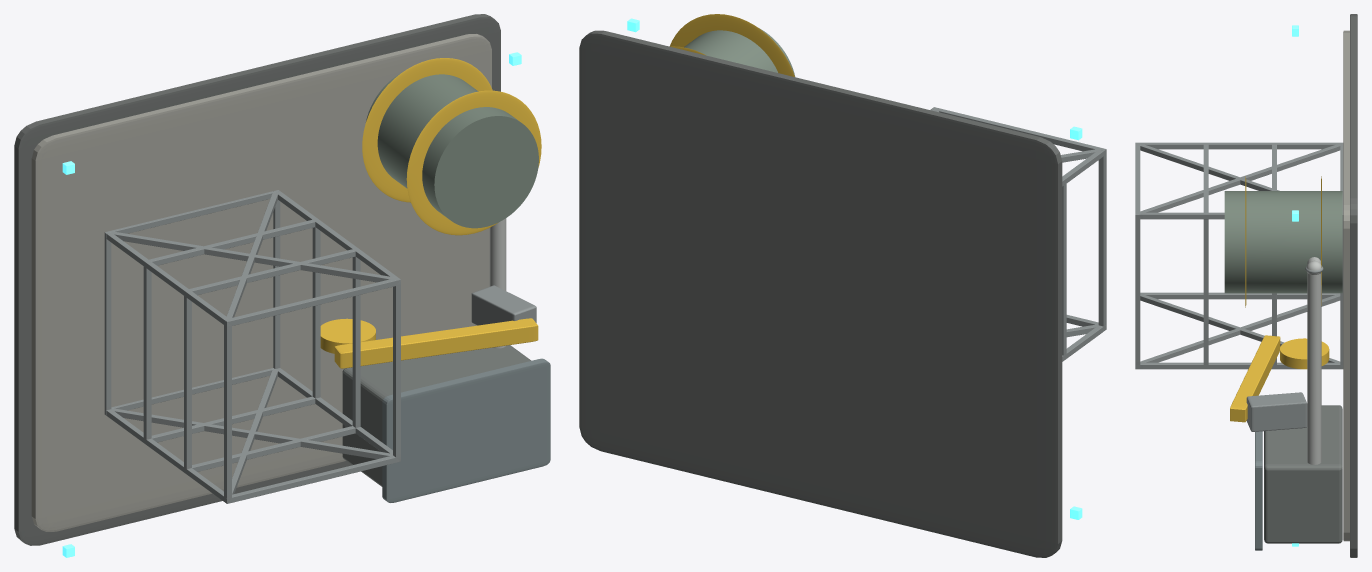
Rendered from b-11-oil-pump-lod1.glb.
The picture shows the model from 3 angles, left to right: view 1: azimuth 30°, elevation 25°; view 2: azimuth 150°, elevation 25°; view 3: azimuth 270°, elevation 25°; orthographic projection. The views are drawn at different scales.
Visible parts, largest first — view 1: foundation_inner_pad, foundation, pump_house_roof, oil_storage_tank_vessel, pump_house_main_hall, pumpjack_beam, oil_storage_tank_ring_high, oil_storage_tank_ring_low, primary_oil_derrick_brace_a_2.1, primary_oil_derrick_brace_a_-2.1, pumpjack_horsehead, primary_oil_derrick_beam_y_1_w (+23 smaller); view 2: foundation, oil_storage_tank_ring_high, oil_storage_tank_vessel, primary_oil_derrick_beam_y_3_w, primary_oil_derrick_beam_x_3_n, primary_oil_derrick_beam_y_2_w; view 3: oil_storage_tank_vessel, pump_house_main_hall, foundation, foundation_inner_pad, oil_export_pipe_segment_2, pumpjack_horsehead, pumpjack_beam, primary_oil_derrick_column_w_n, primary_oil_derrick_brace_a_2.1, primary_oil_derrick_brace_a_-2.1, primary_oil_derrick_column_w_s, primary_oil_derrick_column_e_s (+10 smaller).
Part boxes in pixels (<box>): foundation_inner_pad: <box>31,34,491,531</box>; foundation: <box>14,14,500,545</box>; pump_house_roof: <box>382,358,550,502</box>; oil_storage_tank_vessel: <box>366,72,538,228</box>; pump_house_main_hall: <box>342,345,531,486</box>; pumpjack_beam: <box>334,318,538,368</box>; oil_storage_tank_ring_high: <box>406,90,541,235</box>; oil_storage_tank_ring_low: <box>362,58,492,202</box>; primary_oil_derrick_brace_a_2.1: <box>111,231,392,282</box>; primary_oil_derrick_brace_a_-2.1: <box>111,408,392,459</box>; pumpjack_horsehead: <box>471,285,536,325</box>; primary_oil_derrick_beam_y_1_w: <box>143,260,151,439</box>; foundation: <box>579,30,1062,557</box>; oil_storage_tank_ring_high: <box>669,14,794,76</box>; oil_storage_tank_vessel: <box>684,28,795,76</box>; primary_oil_derrick_beam_y_3_w: <box>1098,148,1106,326</box>; primary_oil_derrick_beam_x_3_n: <box>935,108,1106,155</box>; primary_oil_derrick_beam_y_2_w: <box>1062,178,1066,355</box>; oil_storage_tank_vessel: <box>1224,191,1342,293</box>; pump_house_main_hall: <box>1264,405,1342,543</box>; foundation: <box>1350,14,1357,557</box>; foundation_inner_pad: <box>1343,30,1349,541</box>; oil_export_pipe_segment_2: <box>1307,273,1321,464</box>; pumpjack_horsehead: <box>1246,392,1307,431</box>; pumpjack_beam: <box>1230,335,1280,422</box>; primary_oil_derrick_column_w_n: <box>1140,142,1340,149</box>; primary_oil_derrick_brace_a_2.1: <box>1140,144,1340,212</box>; primary_oil_derrick_brace_a_-2.1: <box>1140,294,1340,362</box>; primary_oil_derrick_column_w_s: <box>1140,292,1340,299</box>; primary_oil_derrick_column_e_s: <box>1140,362,1340,369</box>.
Size of what is drawn, in the model's own units: 12 by 10 by 5.65.
